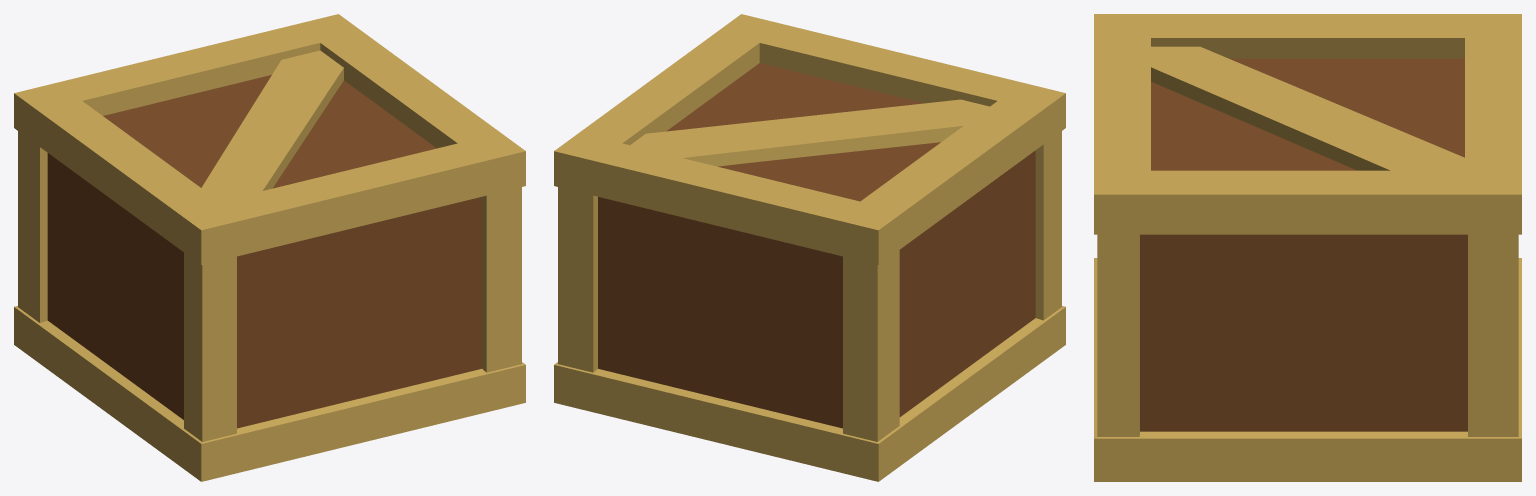
3 renders of one model, left to right at view 1: azimuth 30°, elevation 25°; view 2: azimuth 150°, elevation 25°; view 3: azimuth 270°, elevation 25°, orthographic. The views are drawn at different scales.
Parts seen in each view (by area): view 1: pCube18; view 2: pCube18; view 3: pCube18.
Boxes of the visible parts, x1,y1,x2,y2 form: pCube18: (14, 14, 525, 481); pCube18: (554, 14, 1065, 481); pCube18: (1094, 14, 1521, 481).
Bounding box in the file's own units: 0.9213 × 0.6825 × 0.9213.
